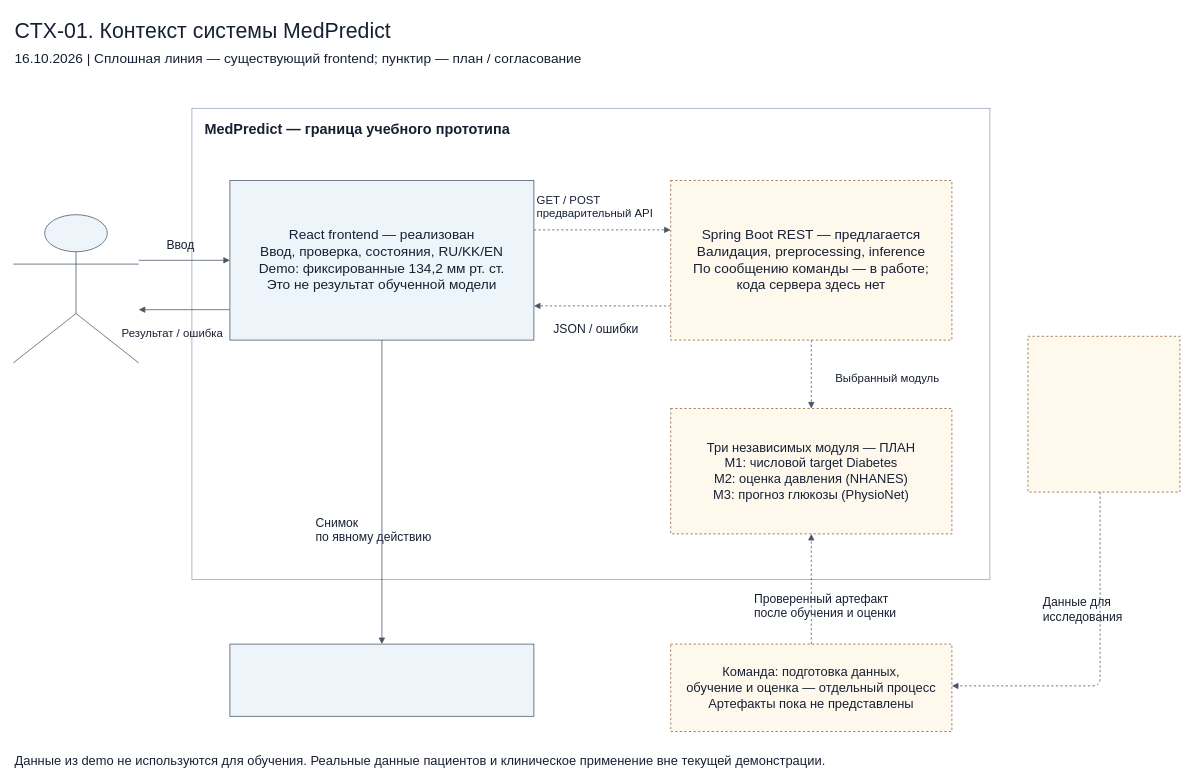
This 1197x783 diagram has some shape labels left out. Each missing label, with the centre of its shape:
"PDF на устройстве пользователя Экспорт существующего результата" belongs at (x=381, y=679).
"Кандидаты данных Diabetes / NHANES PhysioNet Выбор и права требуют согласования" belongs at (x=1103, y=414).
"Участник демонстрации" belongs at (x=76, y=288).
